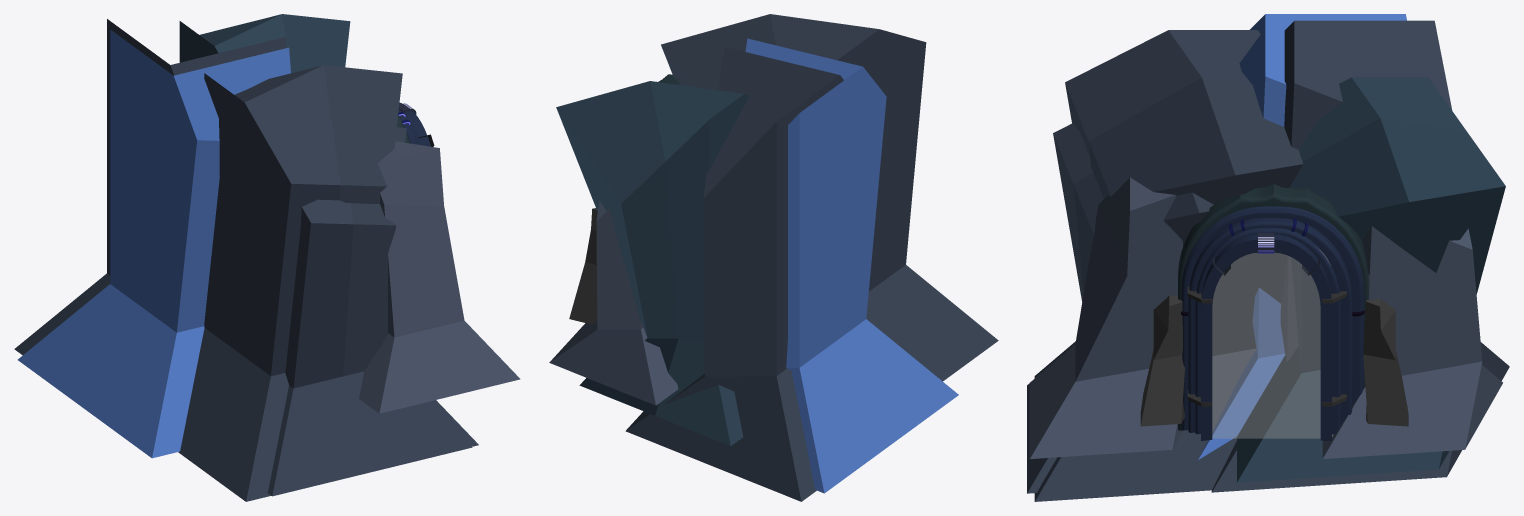
File: greek portal.fbx
3 renders of one model, left to right at view 1: azimuth 30°, elevation 25°; view 2: azimuth 150°, elevation 25°; view 3: azimuth 270°, elevation 25°, orthographic. The views are drawn at different scales.
Visible parts, largest first — view 1: 立方体.024, 立方体.029, 立方体.027, 立方体.022, 立方体.028, 立方体.023; view 2: 立方体.029, 立方体.023, 立方体.028, 立方体.024, 立方体.021, 立方体.013; view 3: 立方体.024, 立方体.028, 立方体.022, 立方体.021, 立方体.025, 立方体.023, 立方体.027, 立方体.029, 立方体, 立方体.005, 立方体.013, 立方体.012 (+4 smaller).
Boxes of the visible parts, box(x1,y1,x2,y2) form: 立方体.024: box(178, 65, 478, 501); 立方体.029: box(17, 29, 290, 458); 立方体.027: box(268, 127, 472, 496); 立方体.022: box(359, 141, 520, 413); 立方体.028: box(179, 14, 350, 73); 立方体.023: box(14, 19, 286, 355); 立方体.029: box(745, 38, 958, 493); 立方体.023: box(625, 47, 843, 501); 立方体.028: box(556, 81, 749, 446); 立方体.024: box(661, 14, 998, 381); 立方体.021: box(549, 200, 678, 405); 立方体.013: box(569, 208, 597, 324); 立方体.024: box(1034, 30, 1303, 501); 立方体.028: box(1237, 77, 1505, 482); 立方体.022: box(1029, 177, 1182, 458); 立方体.021: box(1322, 226, 1502, 458); 立方体.025: box(1212, 249, 1332, 438); 立方体.023: box(1211, 20, 1509, 492); 立方体.027: box(1027, 123, 1254, 493); 立方体.029: box(1198, 14, 1406, 459); 立方体: box(1201, 234, 1331, 441); 立方体.005: box(1188, 218, 1352, 432); 立方体.013: box(1363, 298, 1408, 426); 立方体.012: box(1140, 295, 1184, 426).
Size of what is drawn, in the model's own units: 885 by 969 by 1112.
